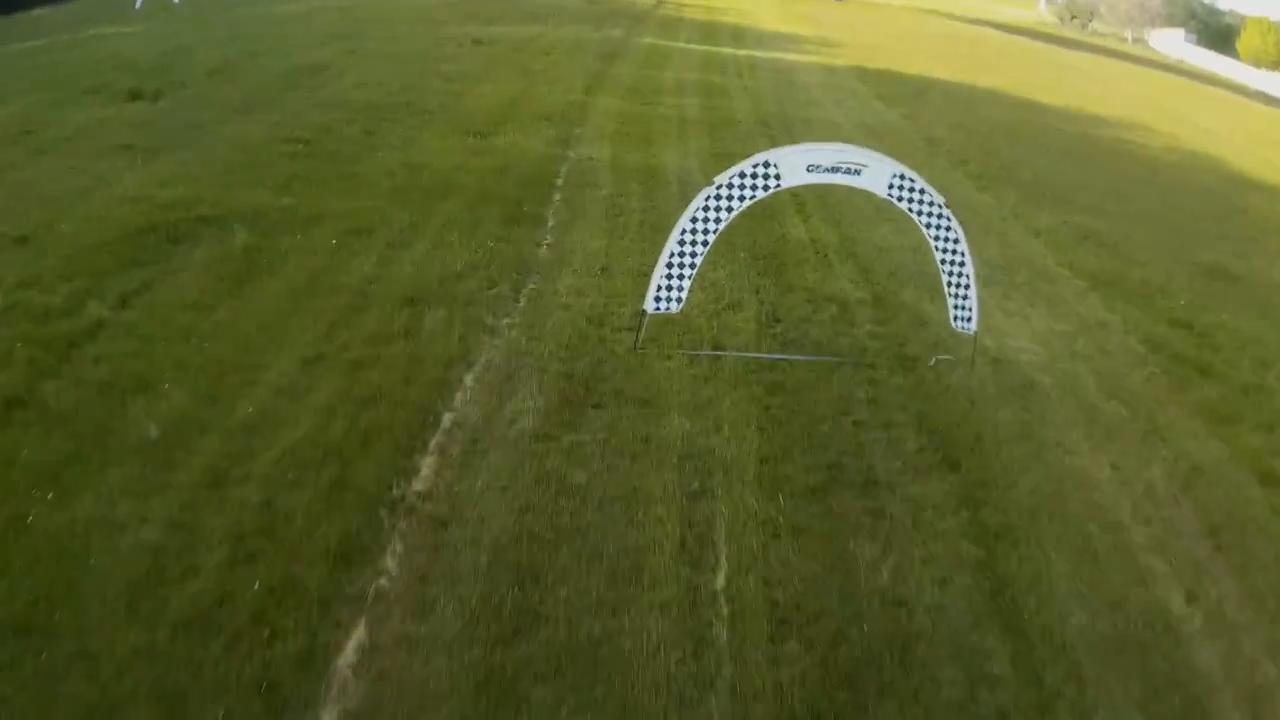gate: (645, 137, 975, 335)
